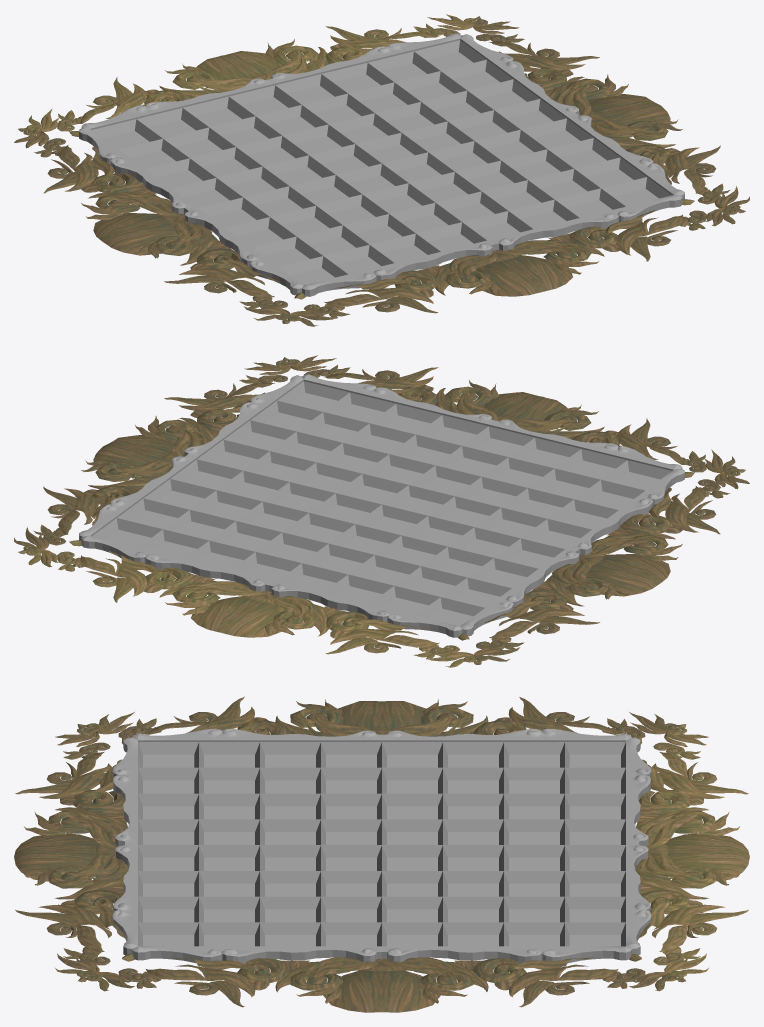
File: marco 8x8.fbx
The picture shows the model from 3 angles, top to bottom: view 1: azimuth 30°, elevation 25°; view 2: azimuth 150°, elevation 25°; view 3: azimuth 270°, elevation 25°; orthographic projection. The views are drawn at different scales.
Parts seen in each view (by area): view 1: side3; view 2: side3; view 3: side3.
Boxes of the visible parts, <box> form: side3: <box>14,14,749,326</box>; side3: <box>14,355,749,667</box>; side3: <box>14,696,749,1012</box>.
Size of the model in its own units: 215 by 5.65 by 215.
